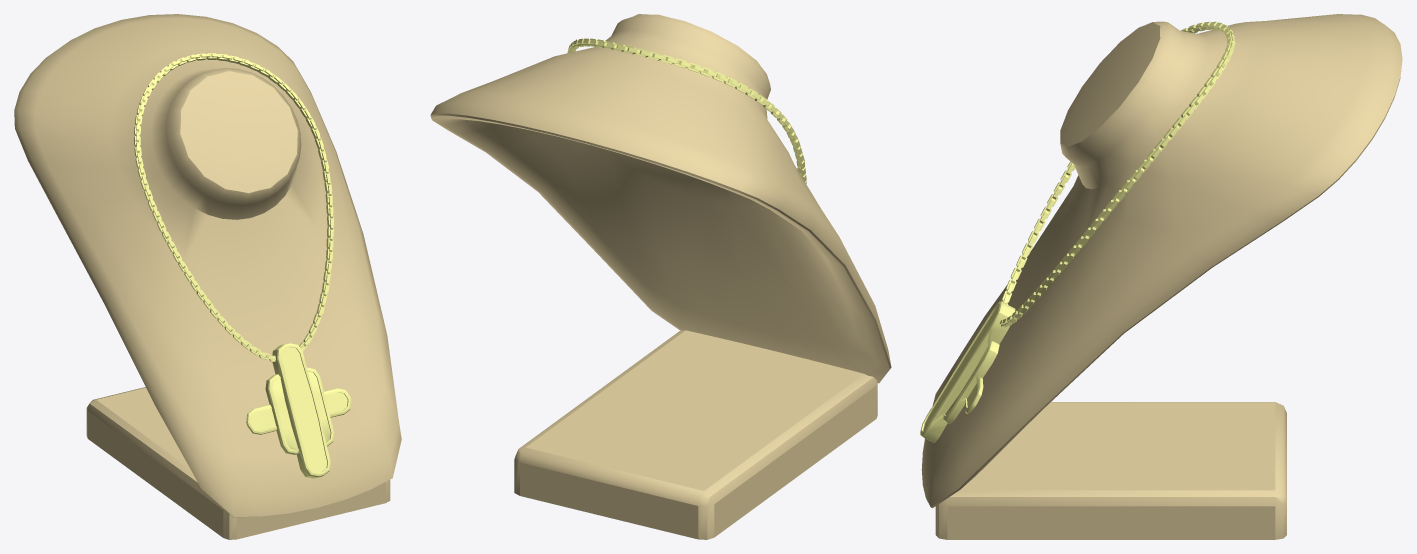
The model's file is Necklace_3.fbx.
3 views of the same model, side by side, from view 1: azimuth 30°, elevation 25°; view 2: azimuth 150°, elevation 25°; view 3: azimuth 270°, elevation 25° (orthographic). The views are drawn at different scales.
Visible parts, largest first — view 1: SM_Stand_Necklace_5, SM_Cullon_11, SM_Necklace_6; view 2: SM_Stand_Necklace_5, SM_Necklace_6; view 3: SM_Stand_Necklace_5, SM_Necklace_6, SM_Cullon_11.
Part boxes in pixels (bbox=[...]): SM_Stand_Necklace_5: bbox=[14, 14, 401, 539]; SM_Cullon_11: bbox=[246, 343, 351, 478]; SM_Necklace_6: bbox=[134, 53, 333, 361]; SM_Stand_Necklace_5: bbox=[430, 14, 891, 539]; SM_Necklace_6: bbox=[567, 38, 806, 183]; SM_Stand_Necklace_5: bbox=[921, 14, 1402, 539]; SM_Necklace_6: bbox=[999, 21, 1235, 327]; SM_Cullon_11: bbox=[920, 301, 1015, 443].
Size of the model in its own units: 22.51 by 29.29 by 27.86.
